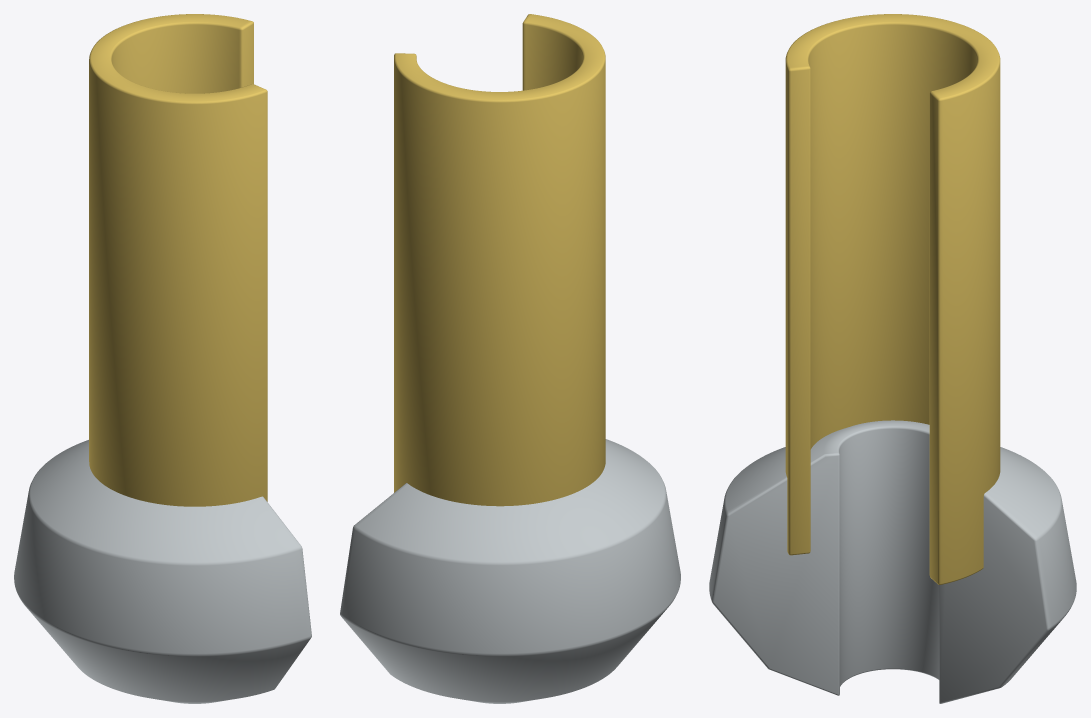
Rendered from wireline-entry-guide.glb.
The picture shows the model from 3 angles, left to right: view 1: azimuth 30°, elevation 25°; view 2: azimuth 150°, elevation 25°; view 3: azimuth 270°, elevation 25°; orthographic projection.
Visible parts, largest first — view 1: Tubing tail, Bell mouth guide; view 2: Tubing tail, Bell mouth guide; view 3: Tubing tail, Bell mouth guide.
Boxes of the visible parts, x1,y1,x2,y2 form: Tubing tail: [89, 14, 267, 506]; Bell mouth guide: [14, 440, 311, 703]; Tubing tail: [394, 14, 605, 506]; Bell mouth guide: [340, 439, 680, 703]; Tubing tail: [785, 14, 1000, 584]; Bell mouth guide: [709, 420, 1076, 703].
Bounding box in the file's own units: 1.47 × 3.65 × 1.92.
